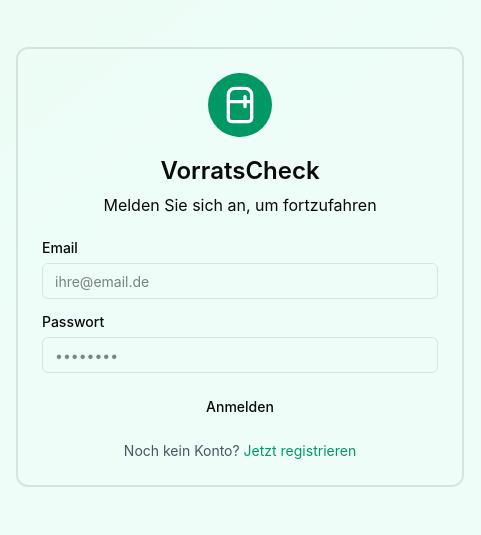
Test: Login (integration) › shows error when login fails
Type "test@example.com" into the field labelled "Email" at (240, 281), box [42, 263, 438, 299]
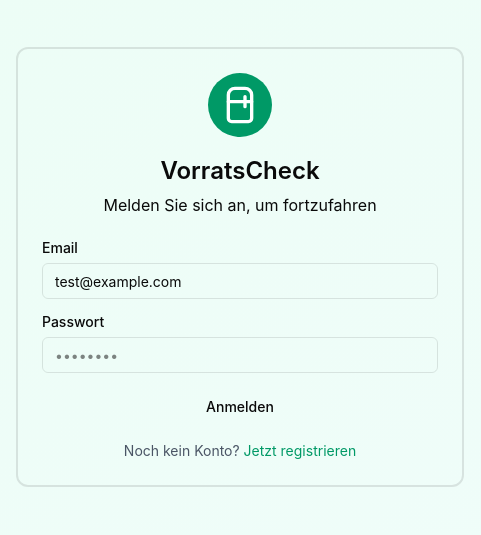
Type "wrong" into the password field labelled "Passwort" at (240, 355), box [42, 337, 438, 373]
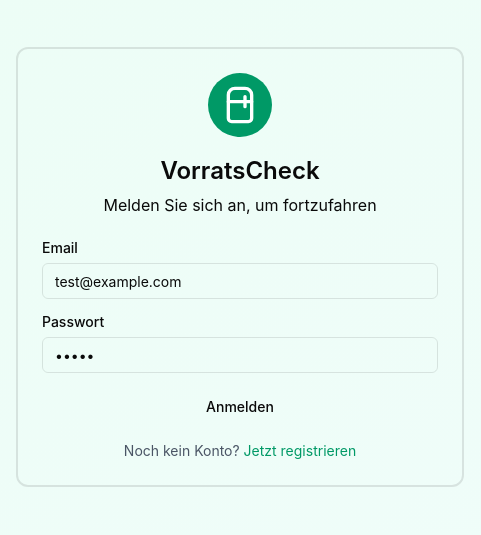
Click the button "Anmelden" at (240, 407), box [42, 389, 438, 425]
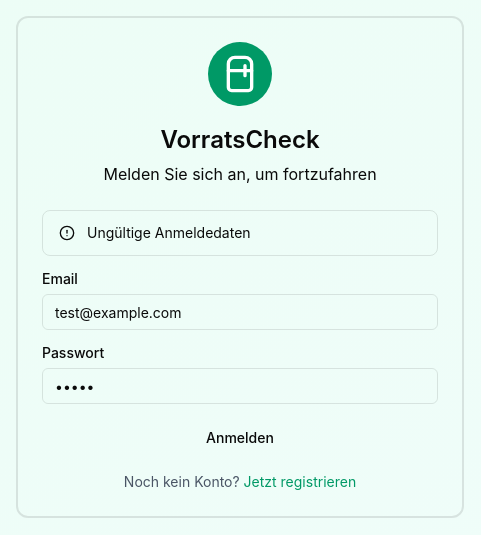
Expected: the text "Ungültige Anmeldedaten" is shown, [87, 224, 251, 241]
